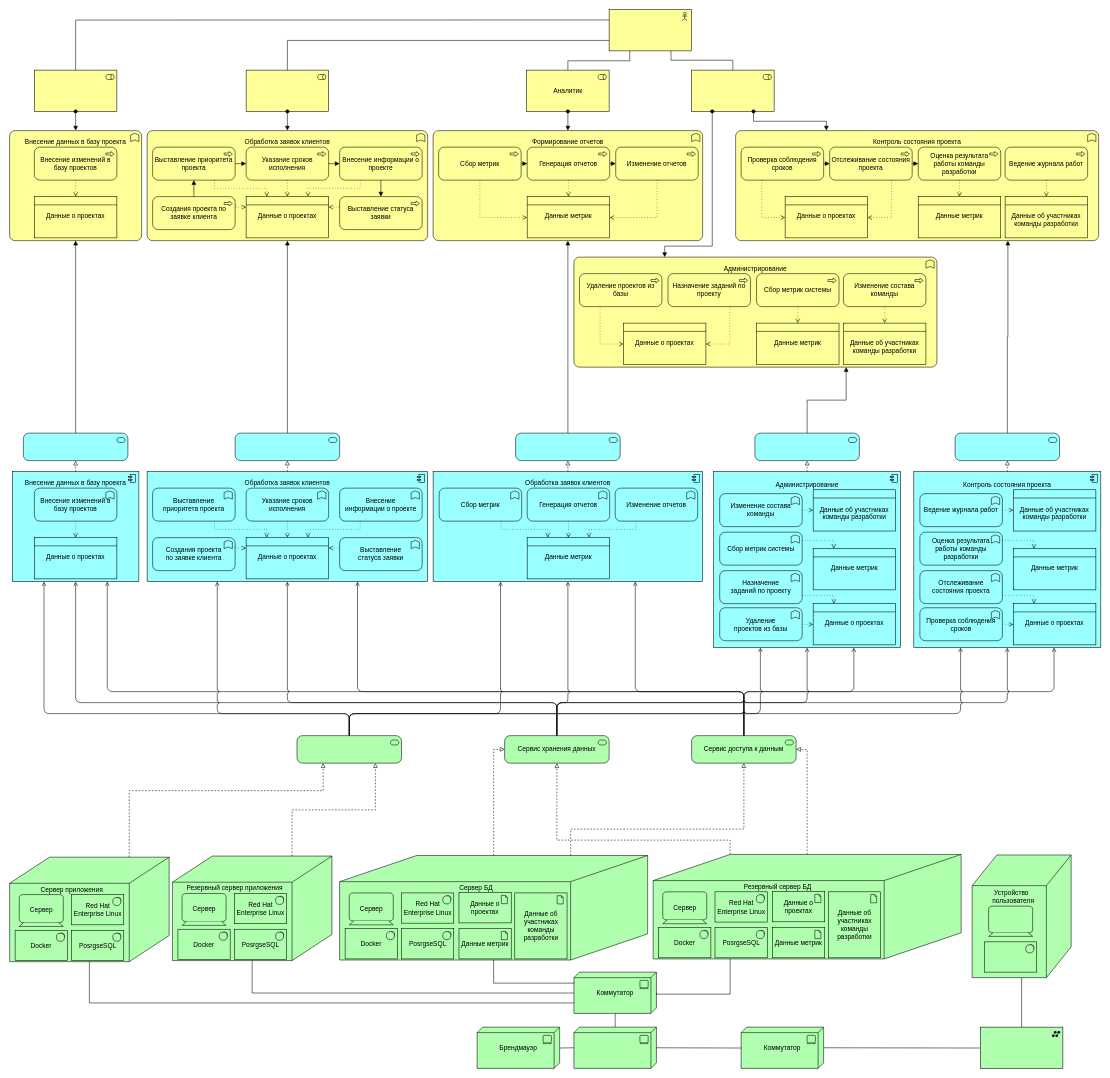
Some shapes in this 1110 by 1078 pixel diagram are drawn without their labels. The shapes that lost their labels are listed below. From the top down, each one's centre as x and y in pixels, then its label:
the point at 650,30: Пользователь
the point at 75,90: Участник команды разработки
the point at 287,90: Менеджер продаж
the point at 732,90: Менеджер проекта
the point at 75,447: Сервис внесения данных в базу проекта
the point at 287,447: Сервис обработки заявок клиентов
the point at 567,447: Сервис формирования отчетов
the point at 806,447: Сервис администрирования
the point at 1007,447: Сервис контроля состояния проекта
the point at 349,749: Сервис доступа к приложению
the point at 1010,921: Astra Linux
the point at 1010,956: АС "ПУП"
the point at 614,1047: Маршрутизатор
the point at 1021,1047: LAN
